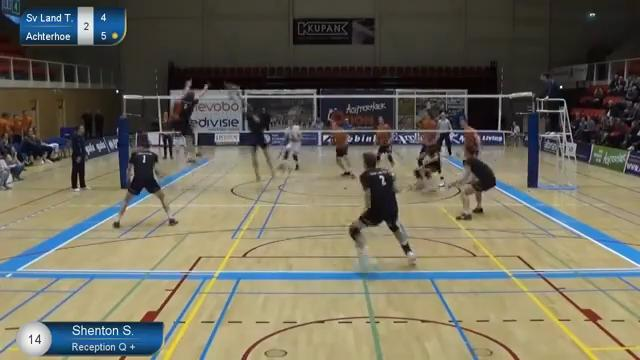Attack: (161, 82, 186, 134)
Block: (169, 76, 207, 172)
Player: (349, 152, 416, 264), (113, 136, 176, 227), (449, 148, 495, 219), (245, 108, 273, 180), (331, 121, 354, 177), (414, 144, 441, 191), (417, 112, 437, 168), (280, 124, 301, 170), (376, 117, 393, 166), (461, 120, 480, 157)
